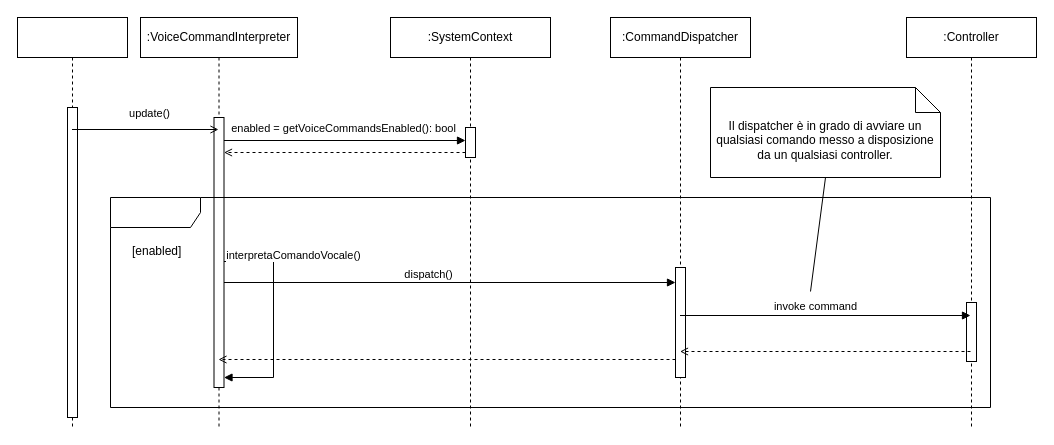
Image size: 1054x445. Some labels were removed from this diagram. The shapes that lost their labels are listed below. From the top down, each one's box as (x1, y1, x2, y2) in pixels, then its label:
(16, 16, 128, 428): :VoiceInputDevice
(110, 196, 990, 408): Alt
